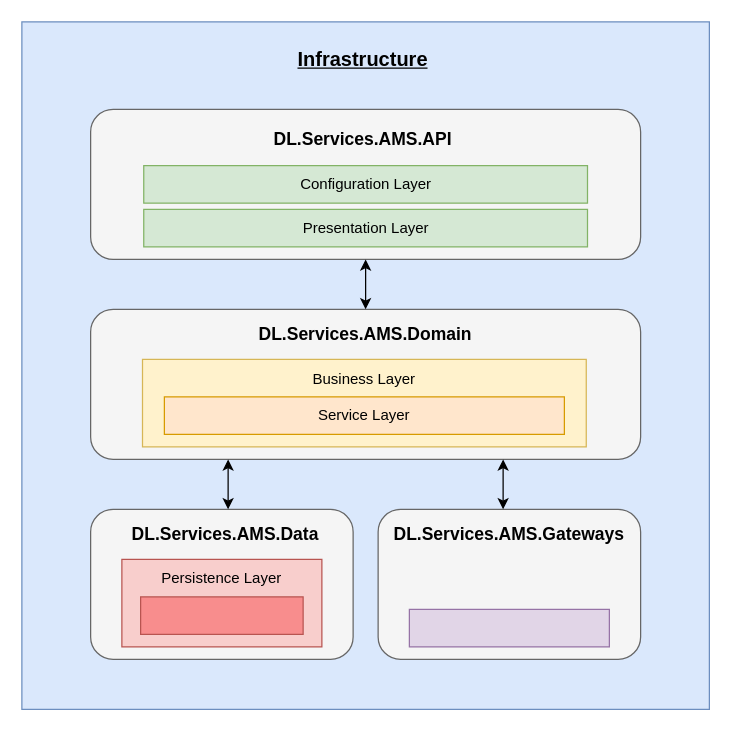
This 731x731 diagram has some shape labels left out. The shapes that lost their labels are listed below. From the top down, each one's centre as x and y in pixels, then its label:
At [221,615]: "Data Access Layer".
At [508,627]: "Gateway Layer".
